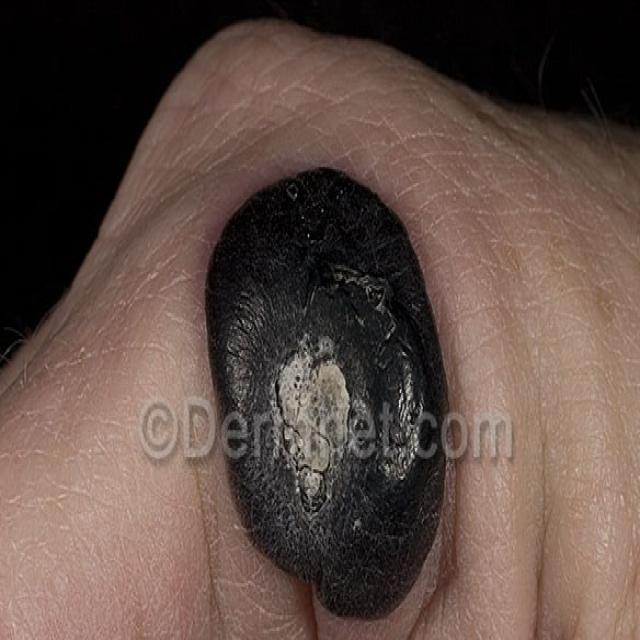Warts: (187, 172, 490, 639)
